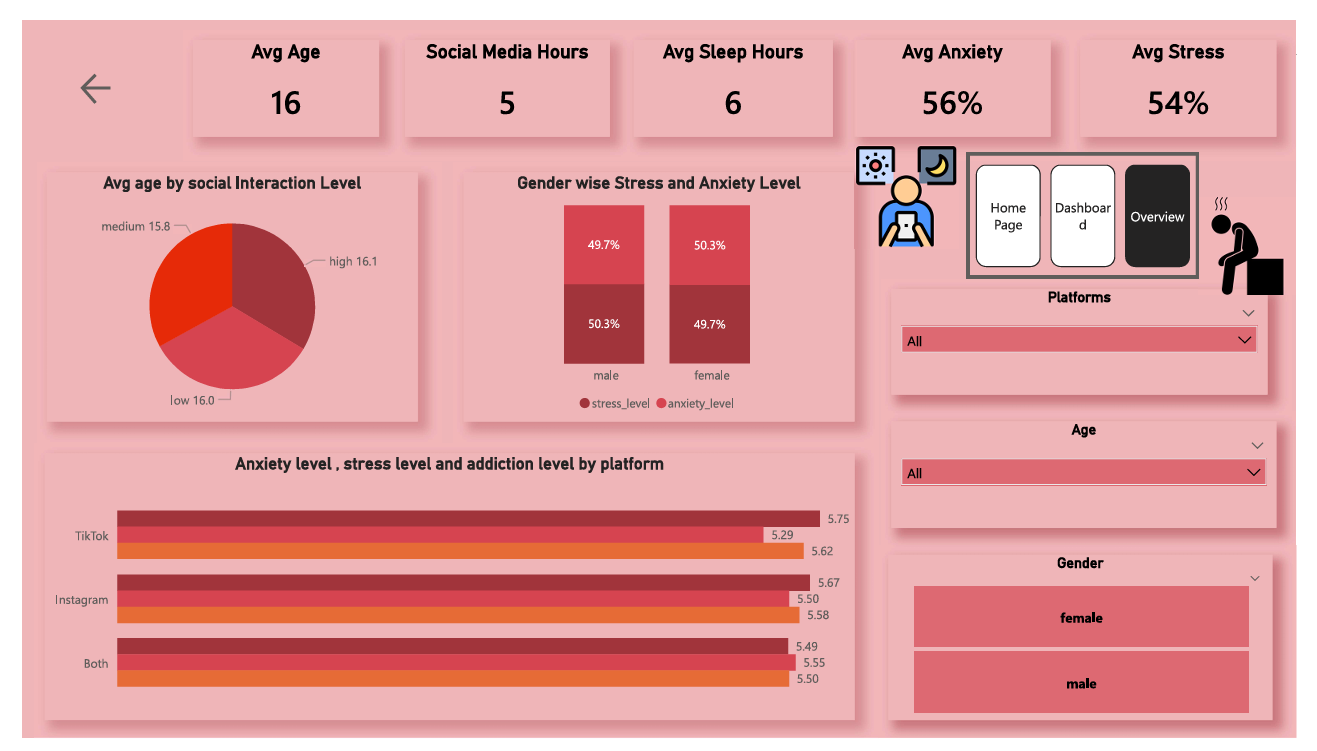

What the dashboard file says about the page in this screenshot:
{"tool":"powerbi","page":{"name":"Overview","canvas":[1280,720],"ordinal":2},"visuals":[{"type":"pieChart","title":"Avg age by social Interaction Level","fields":{"Category":["Teen_Mental_Health_Dataset.social_interaction_level"],"Y":["Avg(Teen_Mental_Health_Dataset.age)"]},"box":[24.1,152,372.8,249.7],"z":0},{"type":"hundredPercentStackedColumnChart","title":"Gender wise Stress and Anxiety Level","fields":{"Category":["Teen_Mental_Health_Dataset.gender"],"Y":["Sum(Teen_Mental_Health_Dataset.stress_level)","Sum(Teen_Mental_Health_Dataset.anxiety_level)"]},"box":[442.8,152,393.3,249.7],"z":1000},{"type":"cardVisual","title":"Avg Age","fields":{"Data":["Teen_Mental_Health_Dataset.Avg Age"]},"box":[171.3,19.3,187,96.5],"z":2000},{"type":"cardVisual","title":"Avg Anxiety","fields":{"Data":["Teen_Mental_Health_Dataset.Avg Anxiety %"]},"box":[836.1,19.3,196.6,96.5],"z":3000},{"type":"cardVisual","title":"Avg Stress","fields":{"Data":["Teen_Mental_Health_Dataset.Avg Stress %"]},"box":[1062.9,19.3,196.6,96.5],"z":4000},{"type":"cardVisual","title":"Social Media Hours","fields":{"Data":["Teen_Mental_Health_Dataset.Avg social media hours"]},"box":[383.6,19.3,206.3,96.5],"z":5000},{"type":"cardVisual","title":"Avg Sleep Hours","fields":{"Data":["Teen_Mental_Health_Dataset.Avg sleep"]},"box":[614.1,19.3,200.3,96.5],"z":6000},{"type":"clusteredBarChart","title":"Anxiety level , stress level and addiction level by platform","fields":{"Category":["Teen_Mental_Health_Dataset.platform_usage"],"Y":["Avg(Teen_Mental_Health_Dataset.anxiety_level)","Avg(Teen_Mental_Health_Dataset.stress_level)","Avg(Teen_Mental_Health_Dataset.addiction_level)"]},"box":[21.7,434.3,814.3,267.8],"z":7000},{"type":"slicer","title":"Platforms","fields":{"Values":["Teen_Mental_Health_Dataset.platform_usage"]},"box":[873.5,269,377.6,106.2],"z":8000},{"type":"slicer","title":"Age","fields":{"Values":["Teen_Mental_Health_Dataset.age"]},"box":[873.5,401.7,386.1,107.4],"z":9000},{"type":"slicer","title":"Gender","fields":{"Values":["Teen_Mental_Health_Dataset.gender"]},"box":[869.8,535.7,386.1,166.5],"z":10000},{"type":"image","box":[1182.3,173.7,97.7,103.8],"z":11000},{"type":"image","box":[836.1,121.9,103.8,107.4],"z":12000},{"type":"actionButton","box":[949.5,131.5,232.8,126.7],"z":13000},{"type":"pageNavigator","box":[957.9,143.6,217.2,103.8],"z":14000},{"type":"actionButton","box":[54.3,48.3,100.1,39.8],"z":15000}]}

Visuals, with their boxes in screenshot pixels (x1, y1, x2, y2), scaled from the page's 1280x720 canvas onto the 1317x751 screenshot:
"Avg age by social Interaction Level" pieChart: pyautogui.locateOnScreen(25, 159, 408, 419)
"Gender wise Stress and Anxiety Level" hundredPercentStackedColumnChart: pyautogui.locateOnScreen(456, 159, 860, 419)
"Avg Age" cardVisual: pyautogui.locateOnScreen(176, 20, 369, 121)
"Avg Anxiety" cardVisual: pyautogui.locateOnScreen(860, 20, 1063, 121)
"Avg Stress" cardVisual: pyautogui.locateOnScreen(1094, 20, 1296, 121)
"Social Media Hours" cardVisual: pyautogui.locateOnScreen(395, 20, 607, 121)
"Avg Sleep Hours" cardVisual: pyautogui.locateOnScreen(632, 20, 838, 121)
"Anxiety level , stress level and addiction level by platform" clusteredBarChart: pyautogui.locateOnScreen(22, 453, 860, 732)
"Platforms" slicer: pyautogui.locateOnScreen(899, 281, 1287, 391)
"Age" slicer: pyautogui.locateOnScreen(899, 419, 1296, 531)
"Gender" slicer: pyautogui.locateOnScreen(895, 559, 1292, 732)
image: pyautogui.locateOnScreen(1216, 181, 1316, 289)
image: pyautogui.locateOnScreen(860, 127, 967, 239)
actionButton: pyautogui.locateOnScreen(977, 137, 1216, 269)
pageNavigator: pyautogui.locateOnScreen(986, 150, 1209, 258)
actionButton: pyautogui.locateOnScreen(56, 50, 159, 92)
